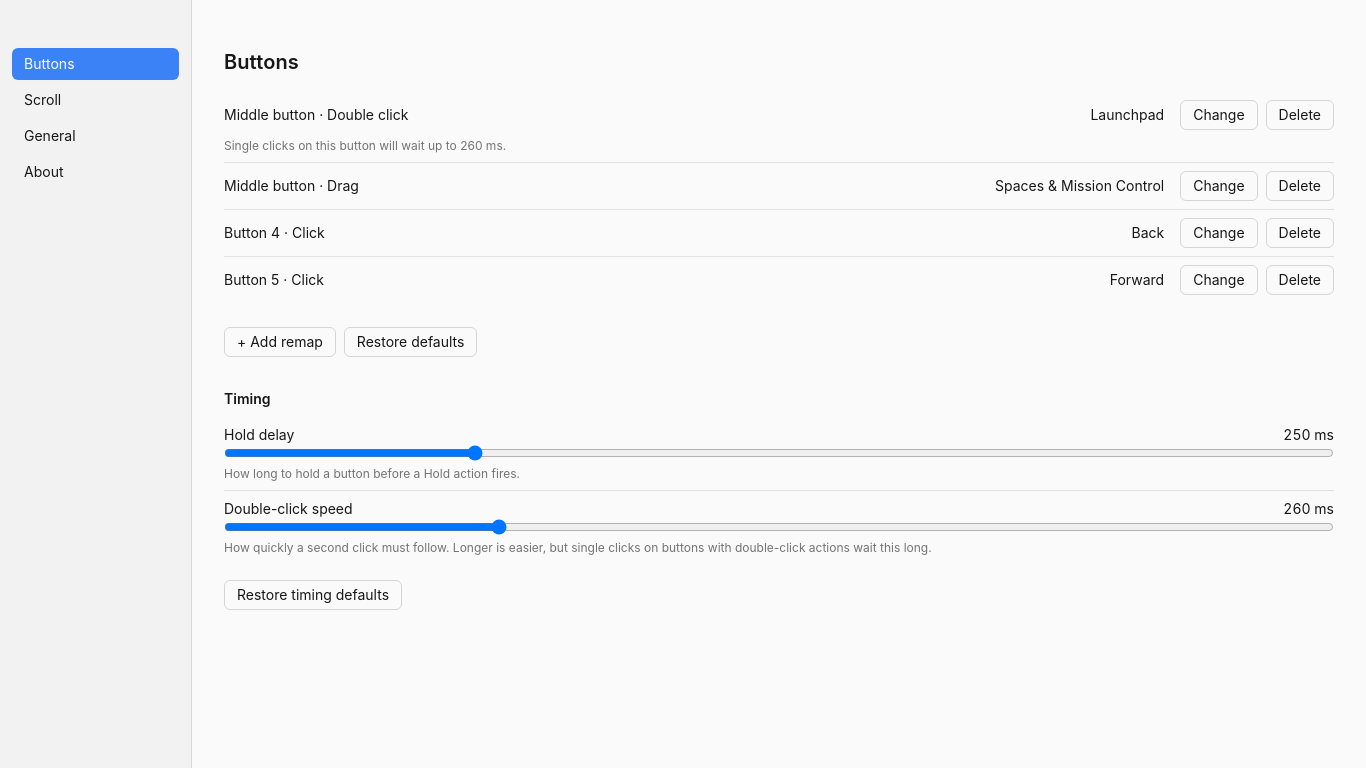
Buttons page › a capture timeout says so and offers to try again
Click the button "+ Add remap" at (280, 342), box x1=224 y1=327 x2=336 y2=357
Wait 10000 ms
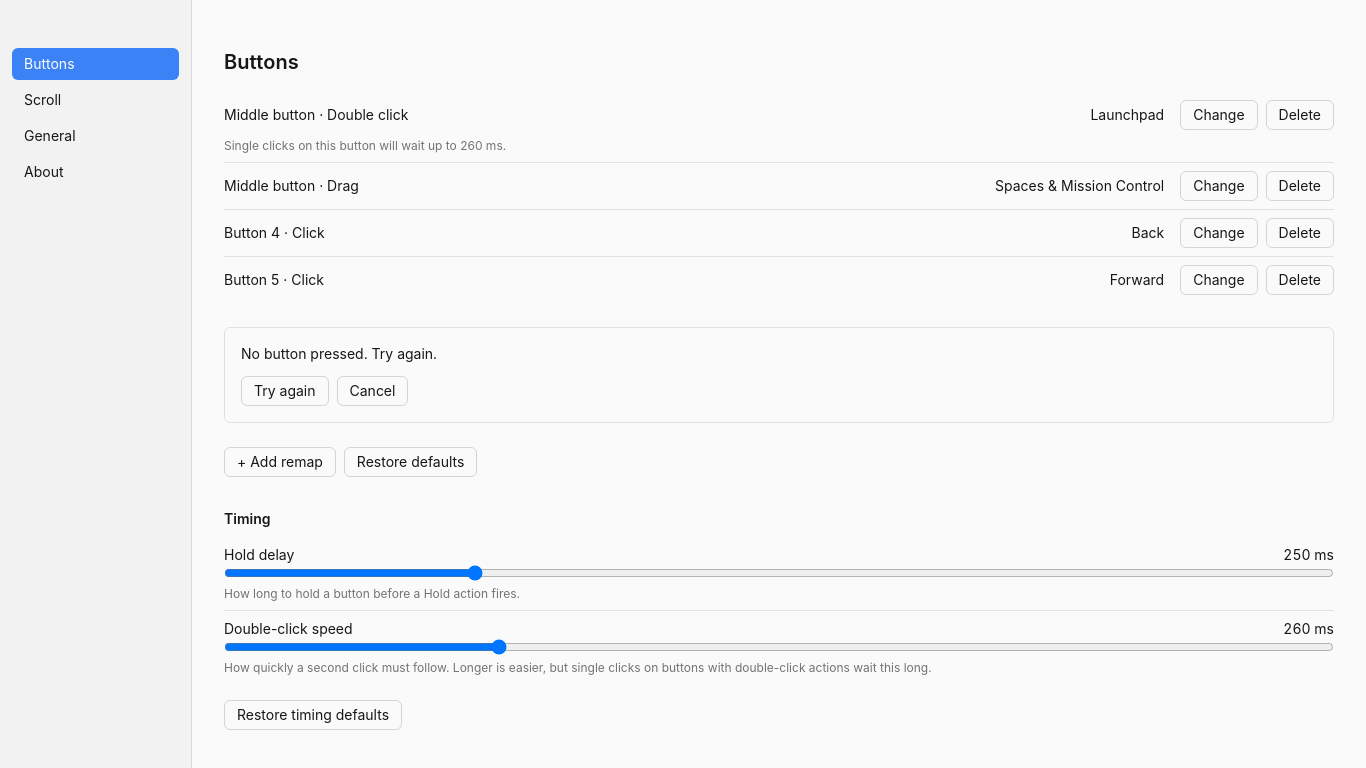
Expected: the text "No button pressed. Try again." is shown, x1=241 y1=345 x2=437 y2=362
Expected: the button "Try again" is shown, x1=241 y1=376 x2=328 y2=406
